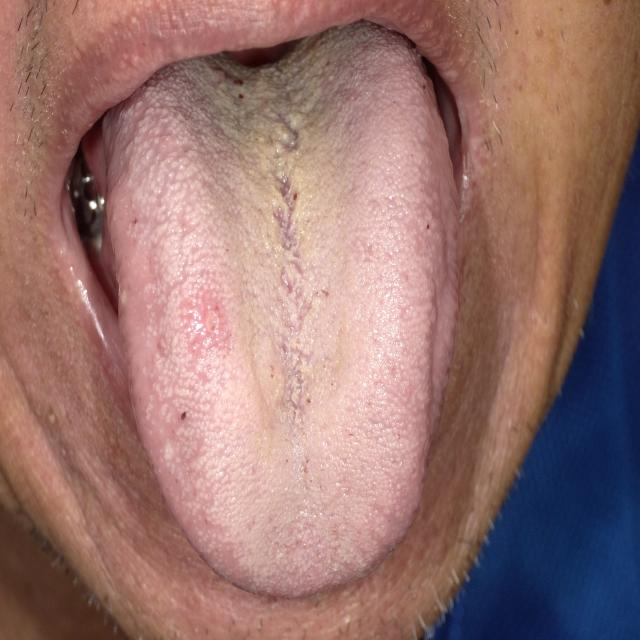chihenshe: (419, 274, 459, 420)
huangtaishe: (85, 21, 461, 597)
liewenshe: (257, 102, 306, 412)
shenquao: (148, 21, 371, 87)
